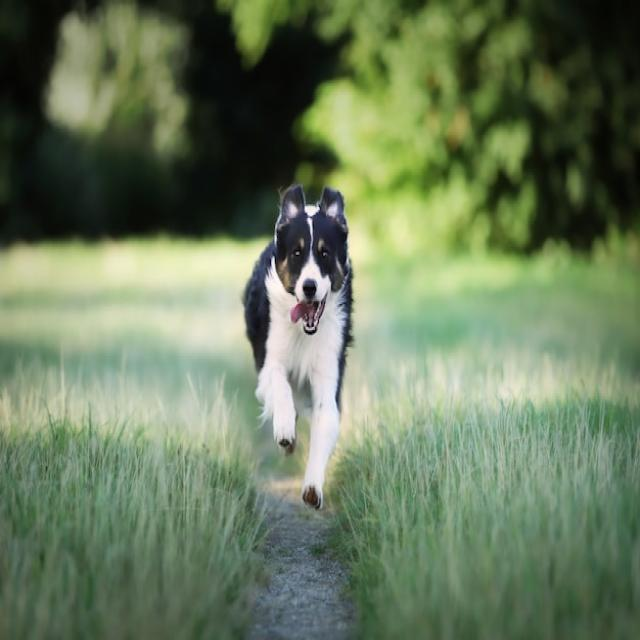Dog: (244, 190, 353, 512)
